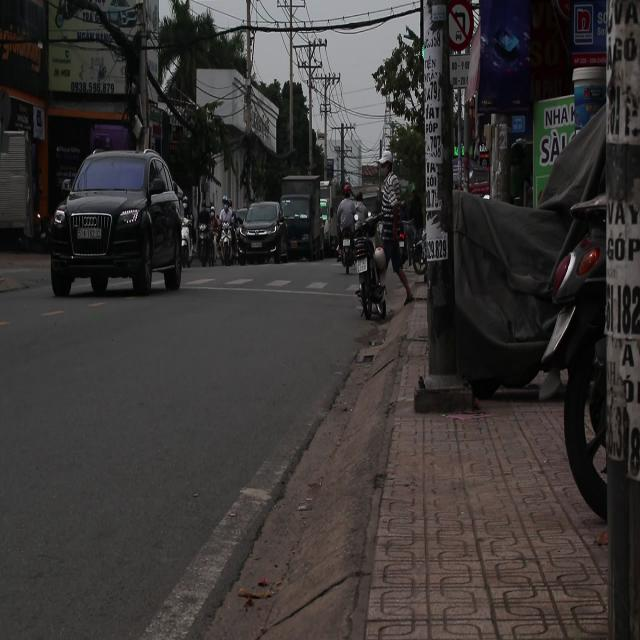car: (49, 149, 186, 297), (234, 202, 284, 264)
motorbike: (346, 217, 391, 321)
truck: (233, 181, 322, 265), (278, 176, 324, 264)
